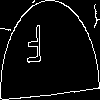F: (25, 24, 43, 71)
